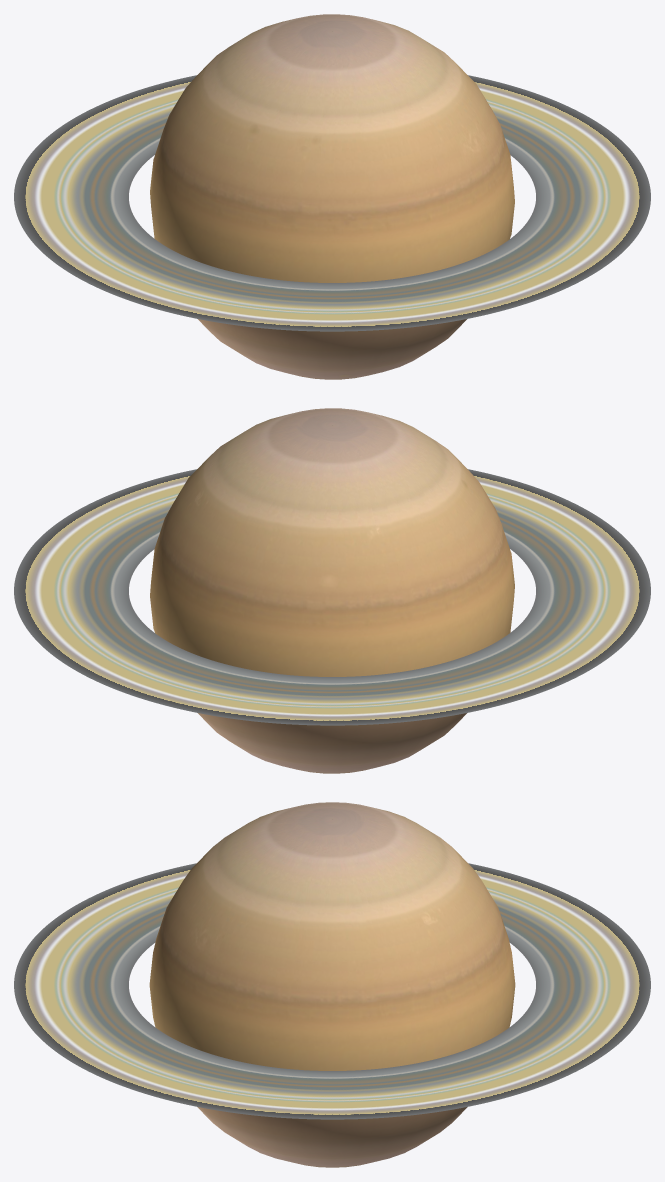
File: saturn3.obj
3 renders of one model, top to bottom at view 1: azimuth 30°, elevation 25°; view 2: azimuth 150°, elevation 25°; view 3: azimuth 270°, elevation 25°, orthographic.
Parts seen in each view (by area): view 1: Saturn, Rings; view 2: Saturn, Rings; view 3: Saturn, Rings.
Part boxes in pixels (x1,y1,x2,y2): Saturn: [150, 14, 514, 379]; Rings: [14, 75, 650, 331]; Saturn: [150, 408, 514, 773]; Rings: [14, 469, 650, 725]; Saturn: [149, 802, 515, 1167]; Rings: [14, 863, 650, 1119].
Size of the model in its own units: 142 by 81.77 by 142.
2 materials, 2 textured.
